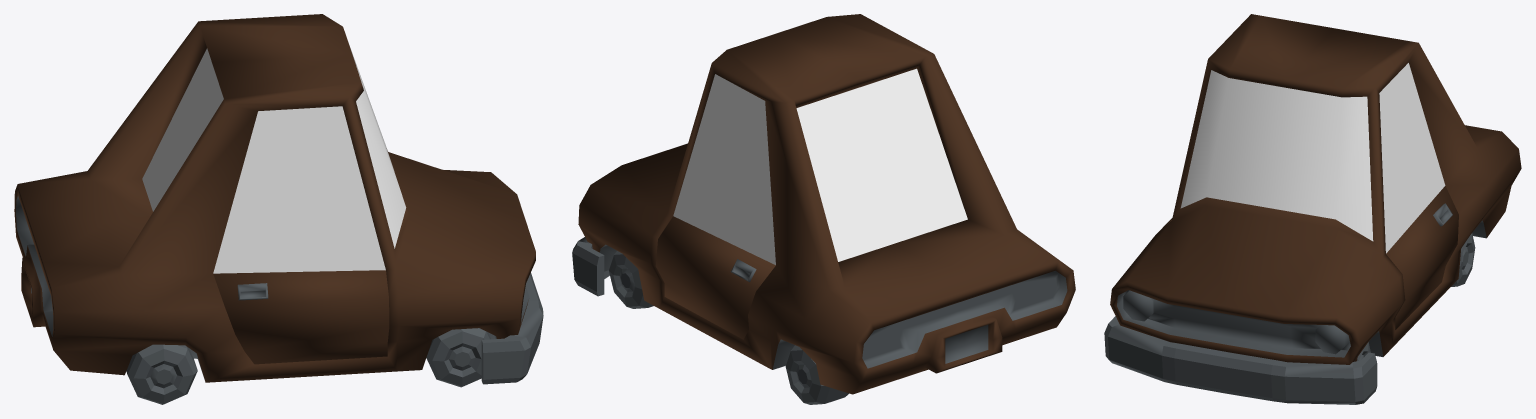
The model's file is ToyObject_133.fbx.
The picture shows the model from 3 angles, left to right: view 1: azimuth 30°, elevation 25°; view 2: azimuth 150°, elevation 25°; view 3: azimuth 270°, elevation 25°; orthographic projection. The views are drawn at different scales.
Parts seen in each view (by area): view 1: object-1.053; view 2: object-1.053; view 3: object-1.053.
Boxes of the visible parts, x1,y1,x2,y2 form: object-1.053: [14, 14, 543, 404]; object-1.053: [572, 14, 1075, 404]; object-1.053: [1104, 14, 1521, 404].
Bounding box in the file's own units: 0.1442 × 0.0829 × 0.1183.
